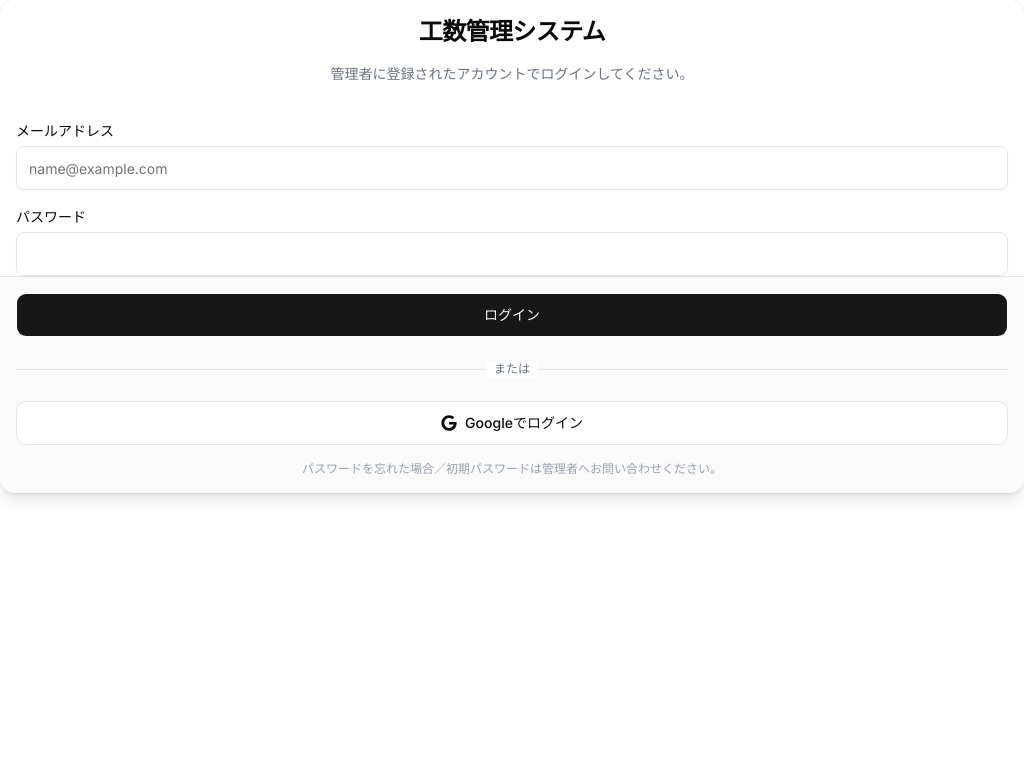
Test: LoginForm › shows error message if signIn fails
Type "test@example.com" into the field labelled "メールアドレス".
click(512, 168); type("test@example.com")  # box top-left (16, 146), bottom-right (1008, 190)
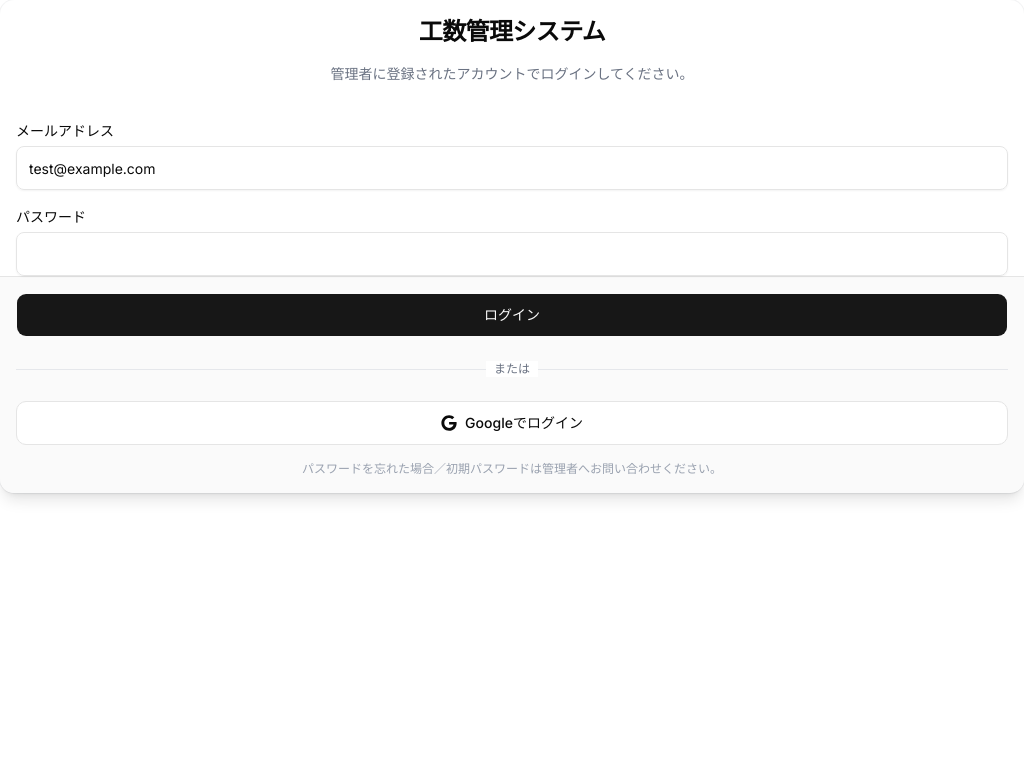
Type "wrongpass" into the password field labelled "パスワード".
click(512, 254); type("wrongpass")  # box top-left (16, 232), bottom-right (1008, 276)
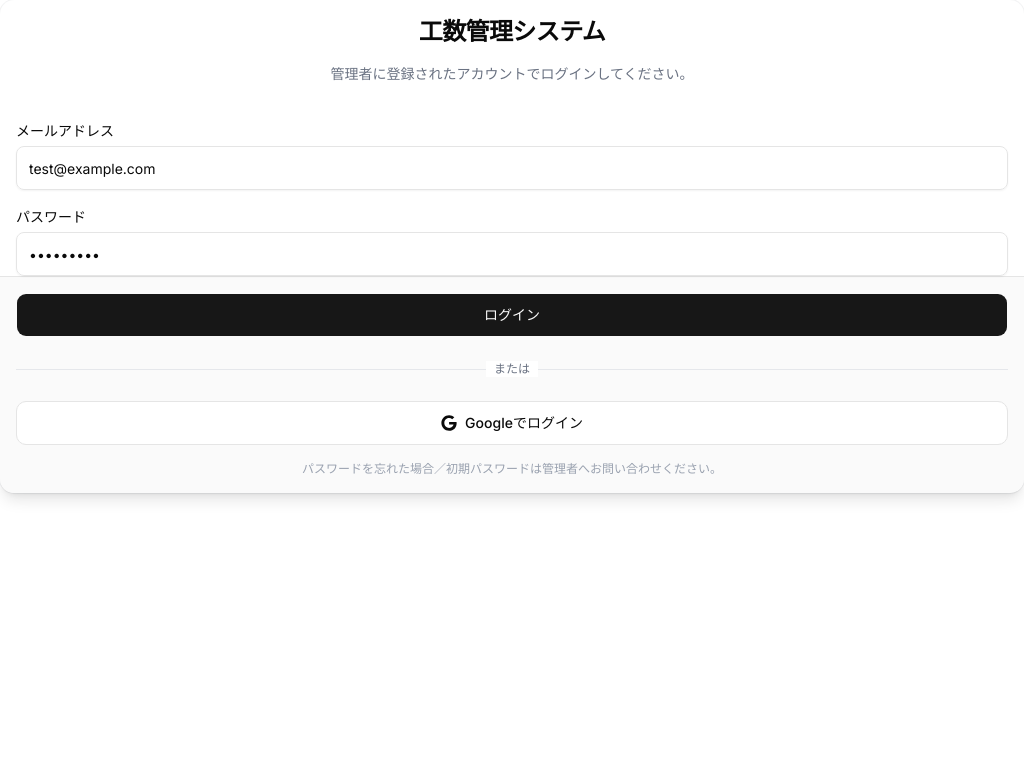
Click the button "ログイン".
click(512, 315)  # box top-left (16, 293), bottom-right (1008, 337)
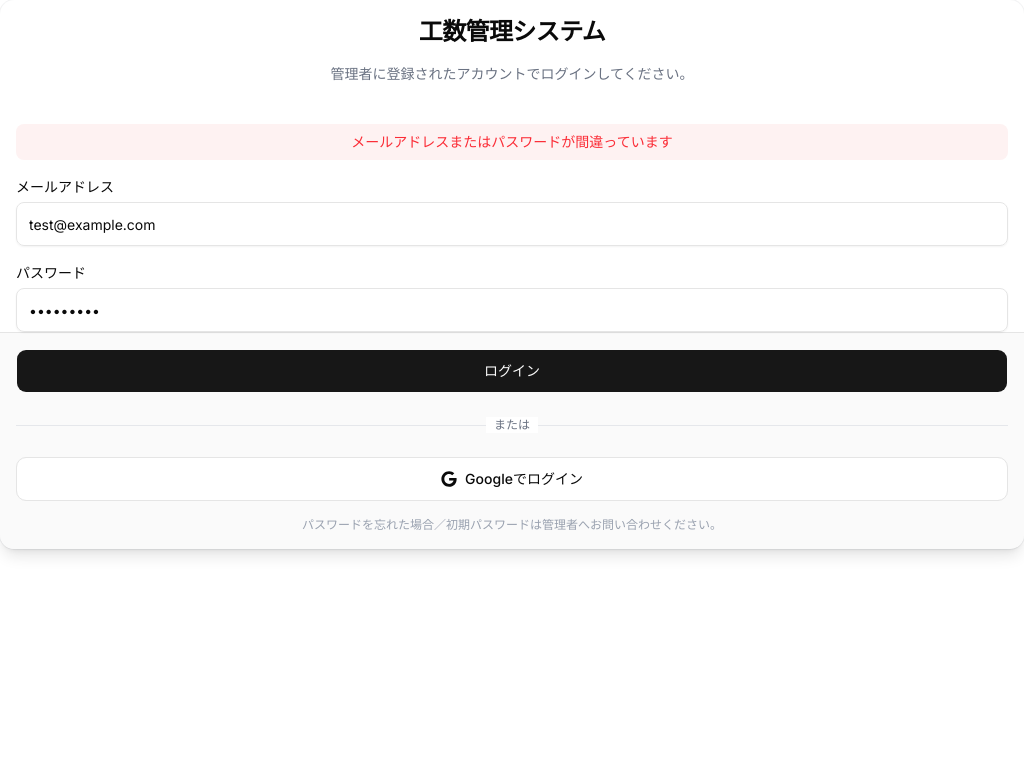
Check: the text "メールアドレスまたはパスワードが間違っています" is shown, box top-left (16, 124), bottom-right (1008, 160)
